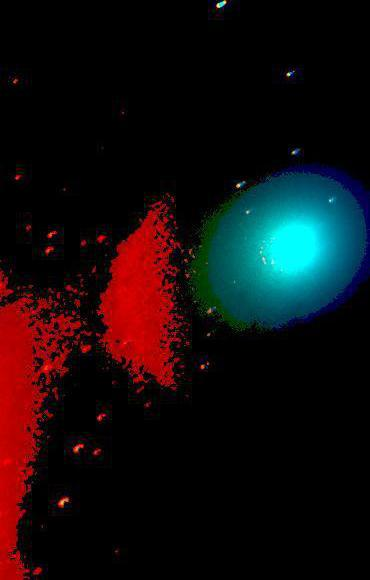star: (215, 266, 245, 296)
